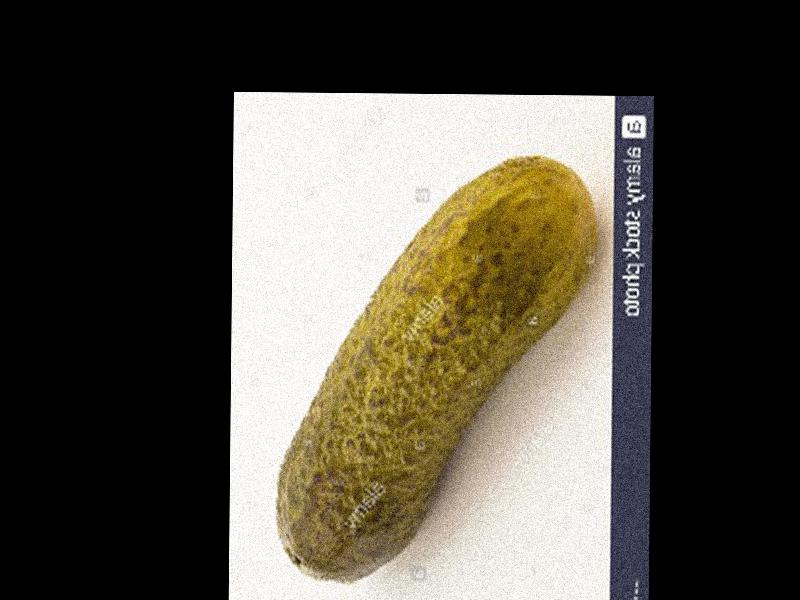Cucumber: (277, 151, 596, 584)
